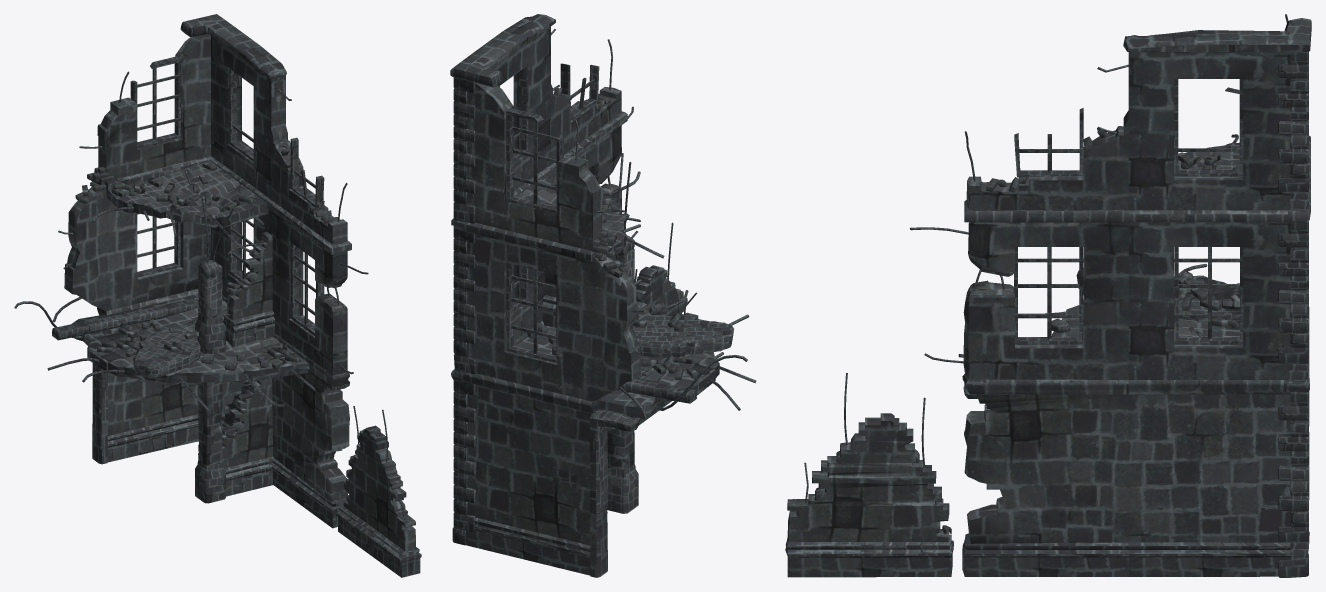
File: ruiny1.FBX
3 views of the same model, side by side, from view 1: azimuth 30°, elevation 25°; view 2: azimuth 150°, elevation 25°; view 3: azimuth 270°, elevation 25° (orthographic). The views are drawn at different scales.
Parts seen in each view (by area): view 1: ruiny; view 2: ruiny; view 3: ruiny.
Part boxes in pixels (x1,y1,x2,y2): ruiny: (14, 14, 421, 577); ruiny: (450, 14, 756, 577); ruiny: (785, 14, 1311, 577).
Size of the model in its own units: 13.96 by 21.06 by 23.73.
1 material, 1 textured.
